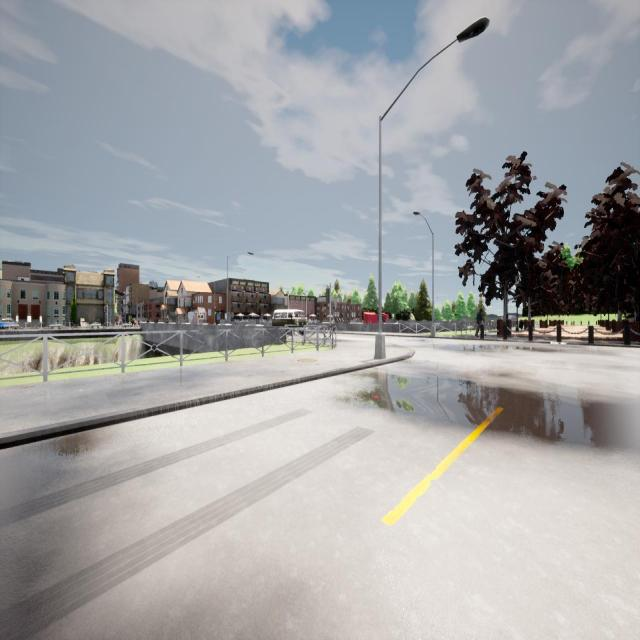Pedestrian: (475, 308, 485, 338)
Vehicle: (272, 309, 306, 327), (0, 318, 19, 330)
traffic_light: (326, 288, 330, 303), (104, 307, 107, 313), (214, 308, 216, 315)
